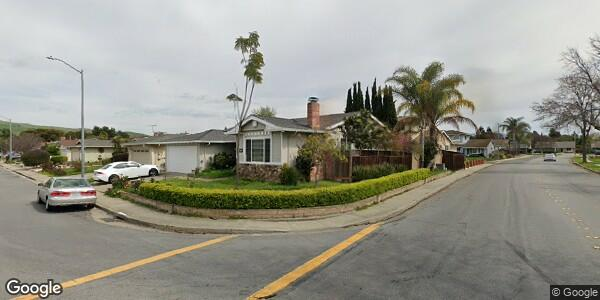Steel_Pole: (43, 53, 87, 175)
